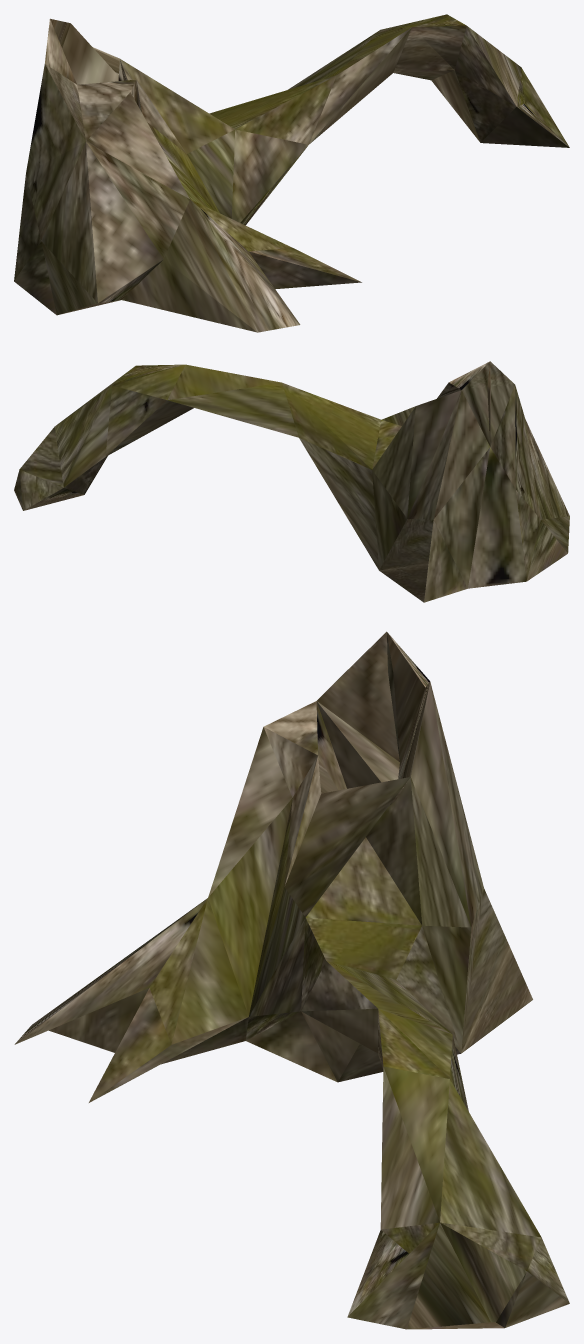
Rendered from fo_rootarch_stump_lod2.glb.
3 renders of one model, top to bottom at view 1: azimuth 30°, elevation 25°; view 2: azimuth 150°, elevation 25°; view 3: azimuth 270°, elevation 25°, orthographic. The views are drawn at different scales.
Parts seen in each view (by area): view 1: output_unwrapped; view 2: output_unwrapped; view 3: output_unwrapped.
Boxes of the visible parts, x1,y1,x2,y2 form: output_unwrapped: (14, 14, 569, 332); output_unwrapped: (14, 361, 569, 602); output_unwrapped: (14, 631, 569, 1329).
Bounding box in the file's own units: 1.68 × 0.7256 × 1.04.
Materials: 1 (1 with a texture image).
